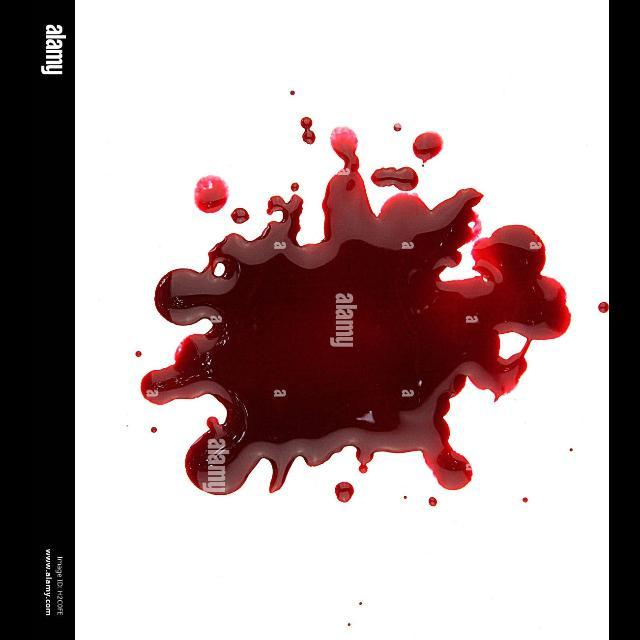blood: (140, 127, 572, 495), (194, 175, 230, 213), (371, 166, 419, 191), (413, 131, 444, 163), (301, 117, 316, 145), (335, 481, 354, 503), (231, 207, 250, 224)
